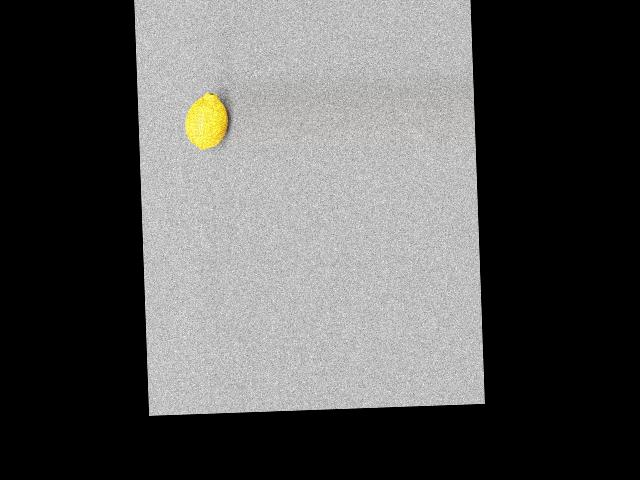lemon: (181, 91, 228, 151)
